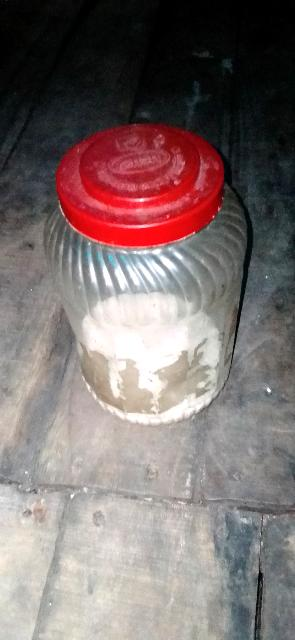hardplastic: (22, 110, 279, 451)
